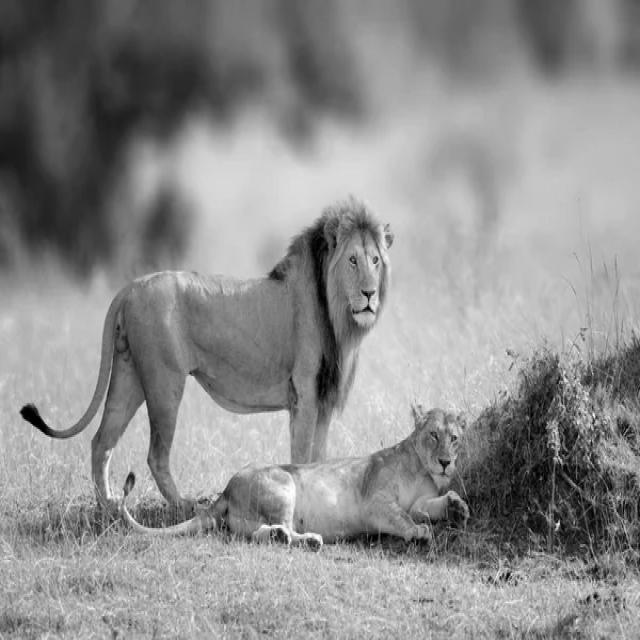Animal: (20, 198, 394, 508), (120, 406, 470, 548)
